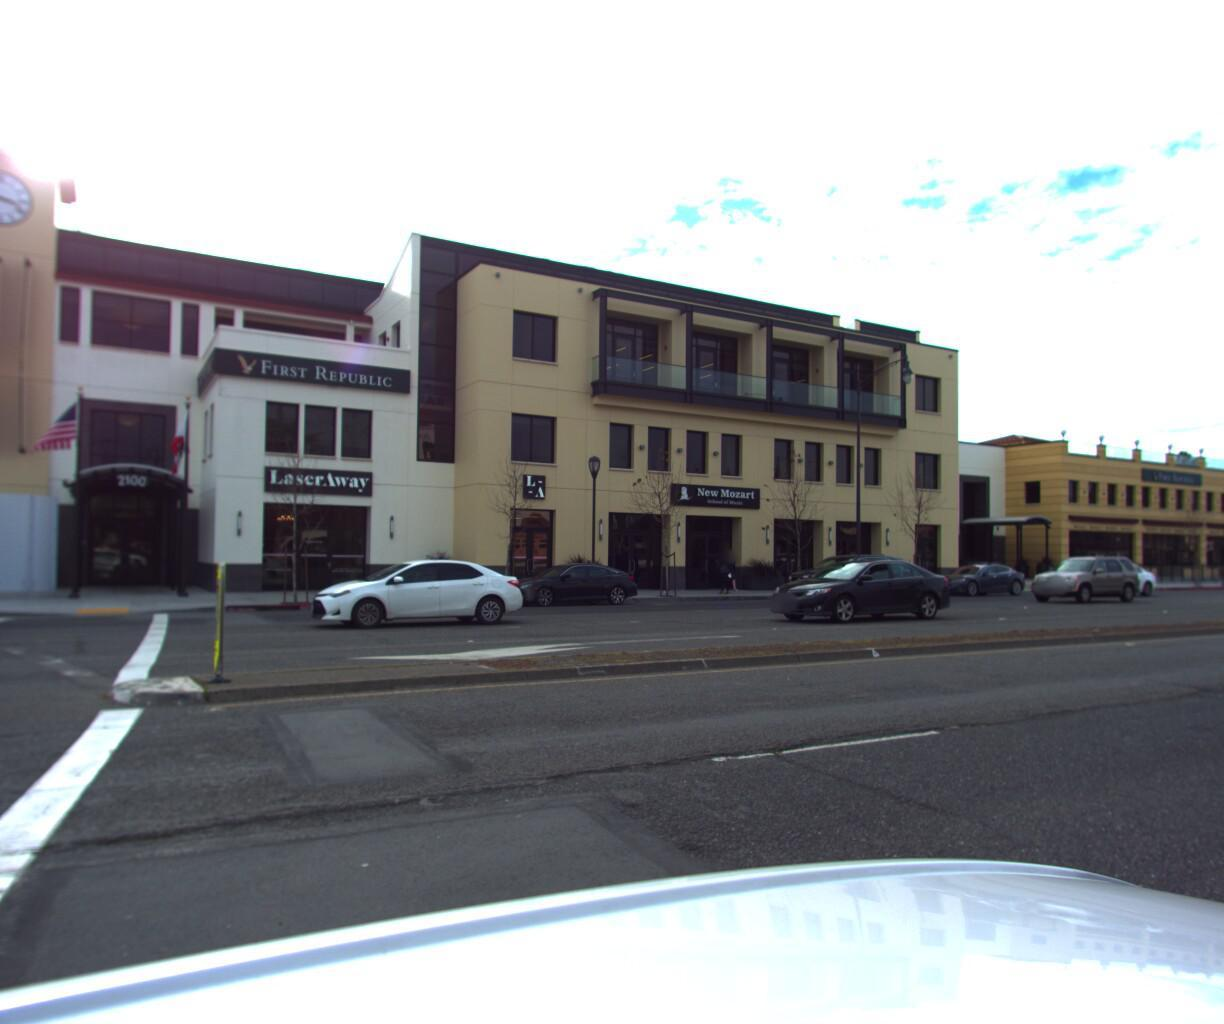car: (300, 554, 533, 628), (755, 554, 957, 622), (493, 556, 645, 607), (781, 554, 918, 600), (1022, 552, 1141, 599), (921, 554, 1031, 594), (1072, 556, 1171, 592), (1218, 559, 1224, 589)
